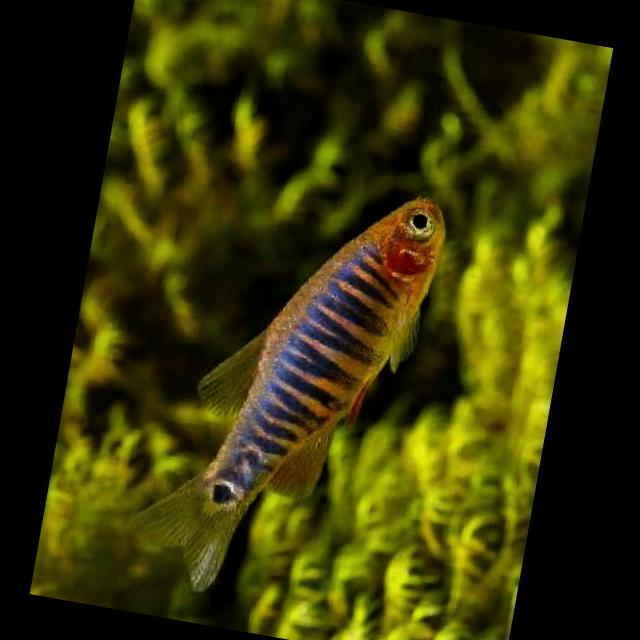ZebraFish: (120, 153, 456, 610)
